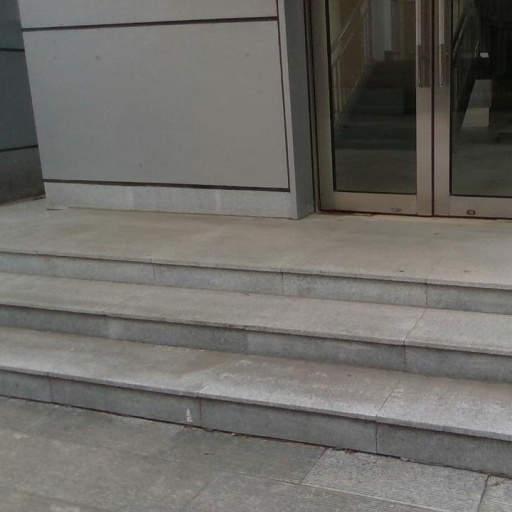Stairs: (0, 200, 512, 476)
